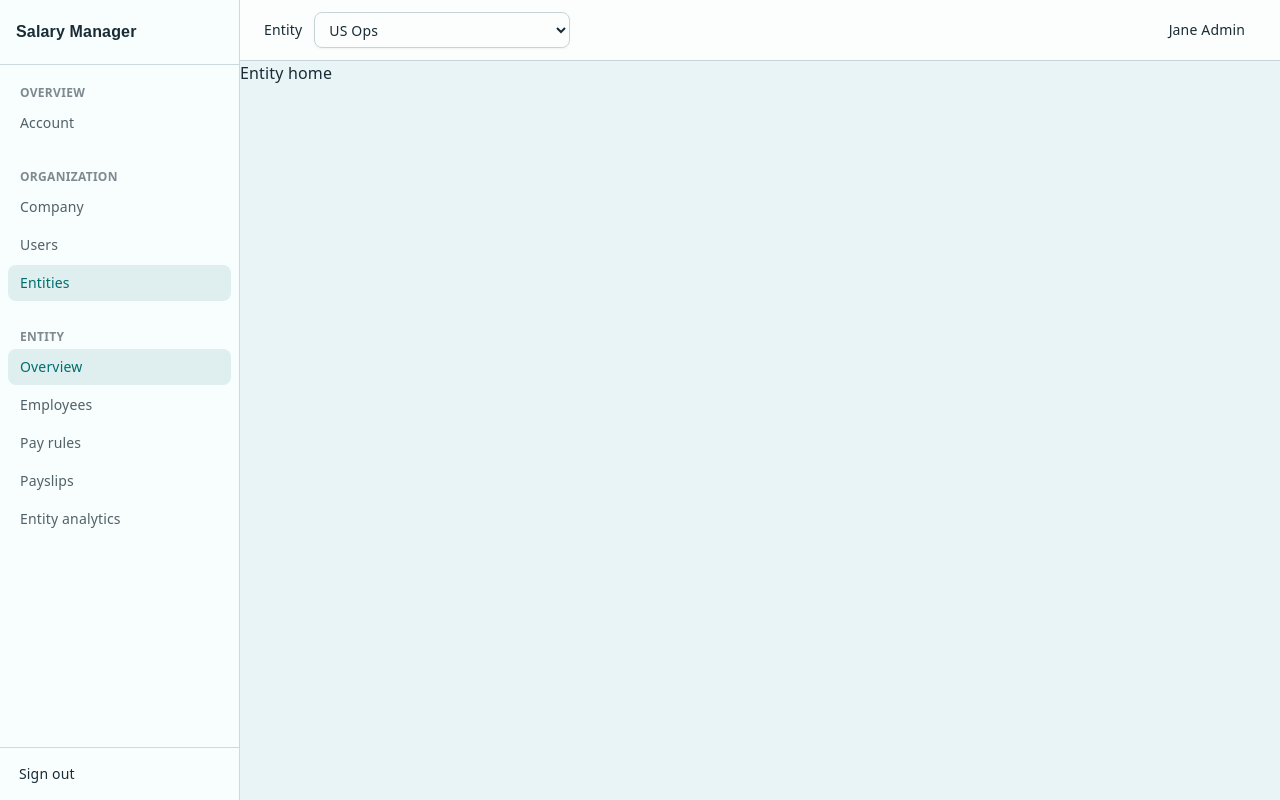
AppShell navigation › clears entity context when admin chooses all entities
Select "All entities" in the dropdown labelled "Entity". click: (442, 30)
box: [314,12,570,48]
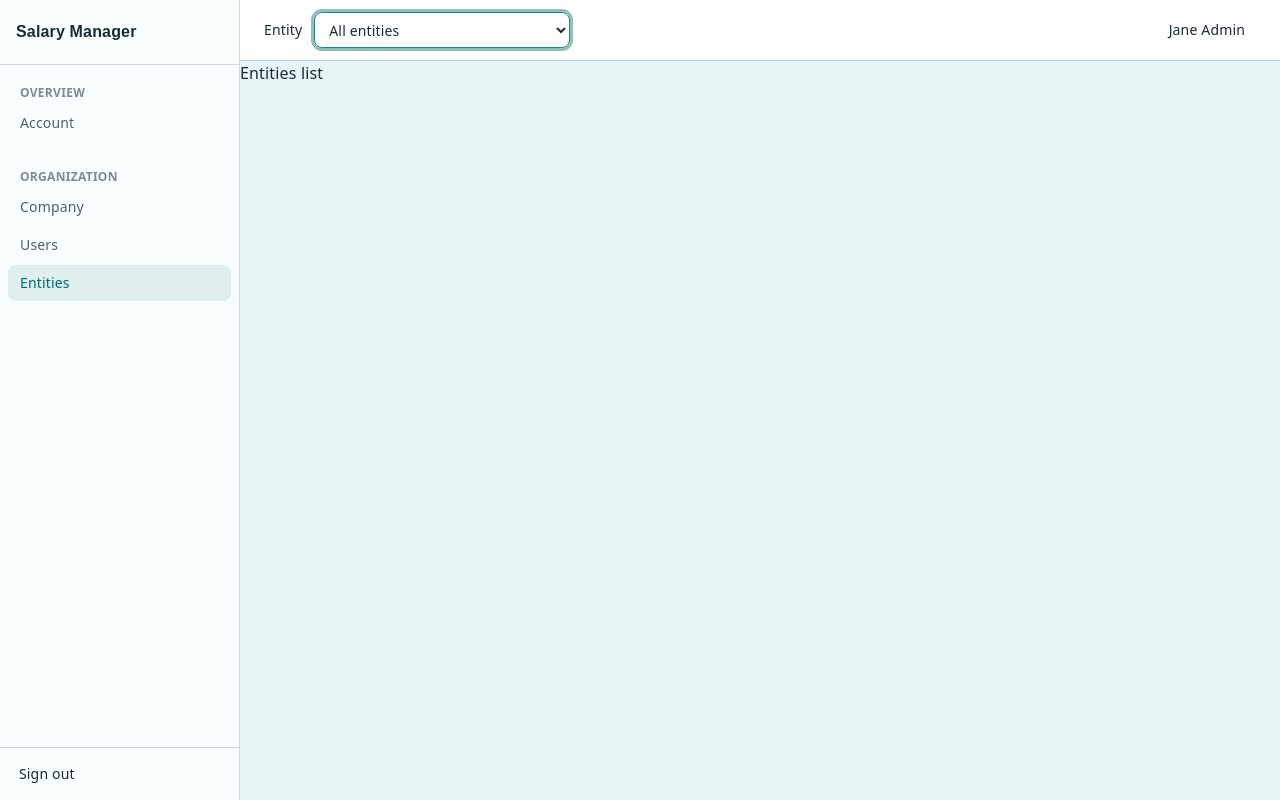
expect the text "Entities list" is shown: met, box [240,62,323,84]
expect the link "Employees" is gone: met
